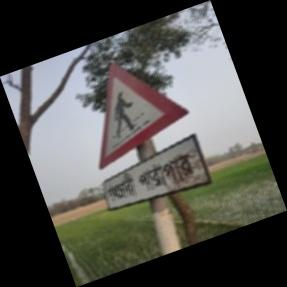Pedestrian-crossing: (97, 62, 217, 212)
